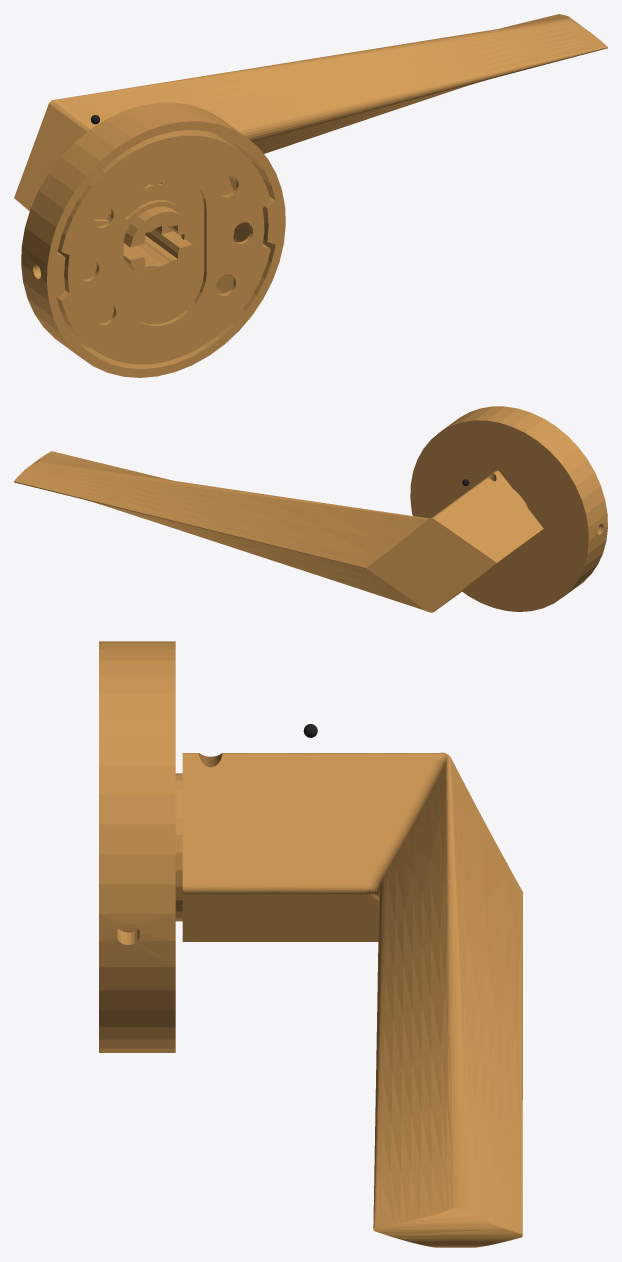
The model's file is himalia pvd gold.glb.
3 views of the same model, one above another, from view 1: azimuth 30°, elevation 25°; view 2: azimuth 150°, elevation 25°; view 3: azimuth 270°, elevation 25° (orthographic). The views are drawn at different scales.
Visible parts, largest first — view 1: HIMALIYA; view 2: HIMALIYA; view 3: HIMALIYA.
Part boxes in pixels (<box>): HIMALIYA: <box>14,14,607,377</box>; HIMALIYA: <box>14,406,607,612</box>; HIMALIYA: <box>99,641,522,1247</box>.
Size of the model in its own units: 0.9301 by 0.3398 by 0.35.
